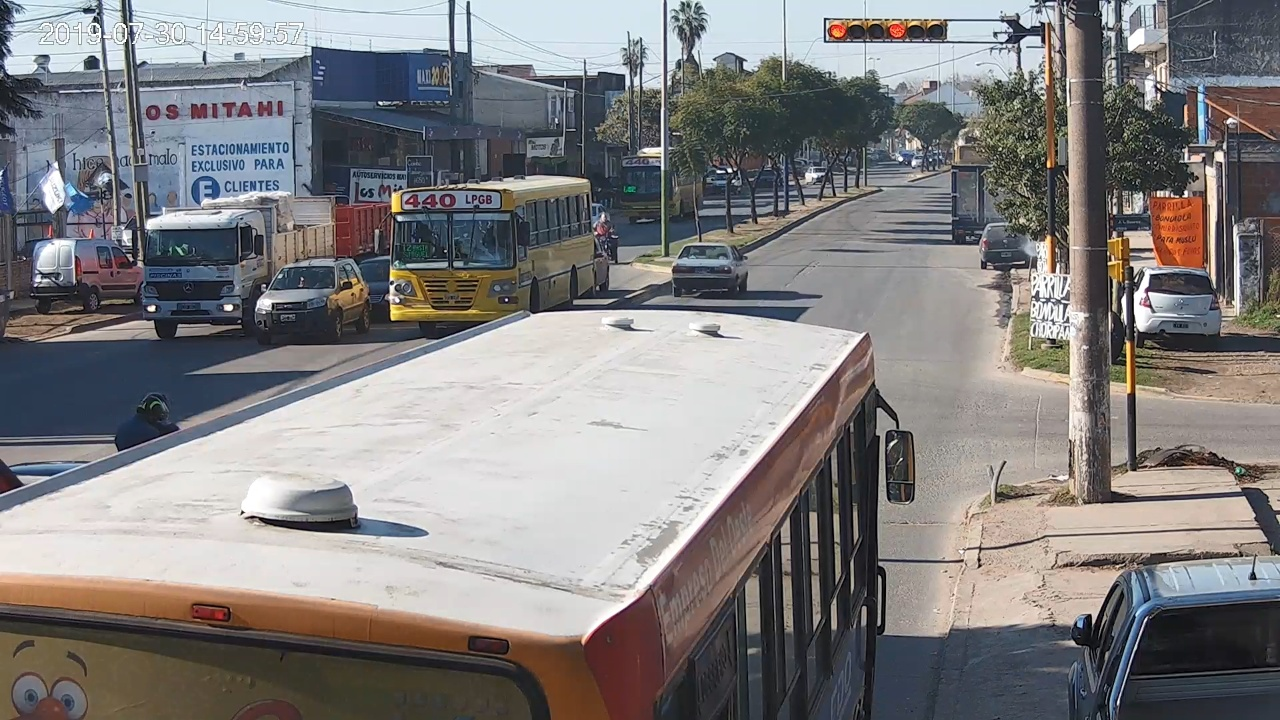bus: (4, 312, 916, 720)
car: (672, 243, 749, 297)
